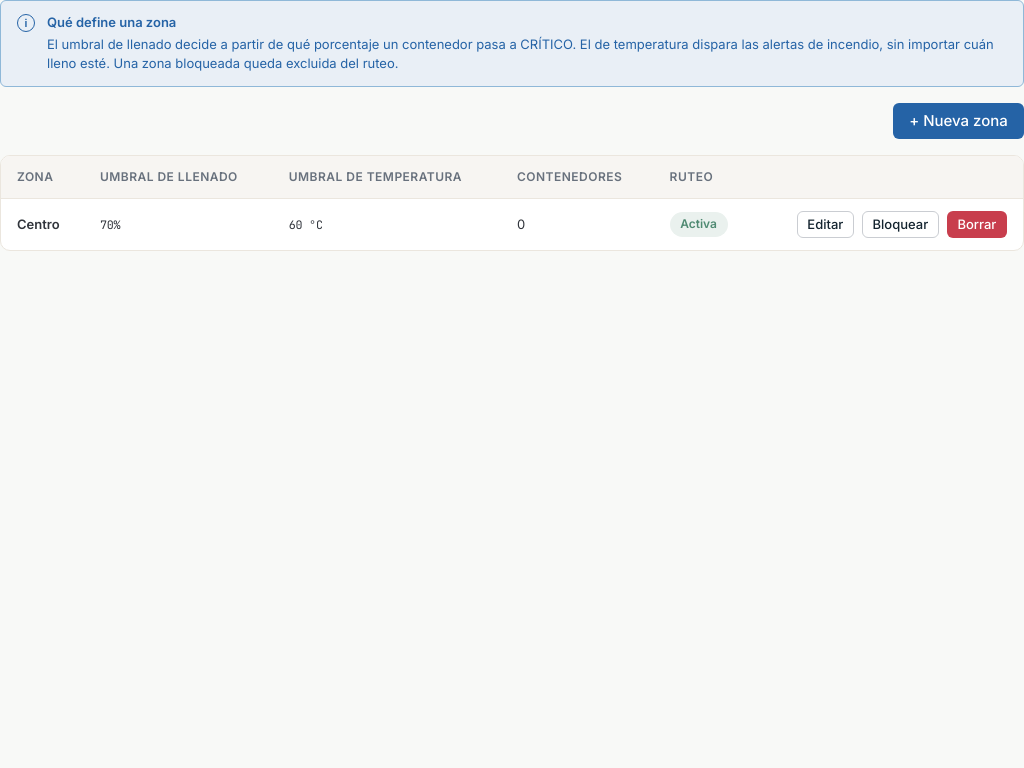
Test: CU-02 zonas y umbrales › no avisa nada si el umbral sube
Expected: the text "Centro" is shown, [17,216,60,232]
Click the button "Editar" at [825, 224], box [797,211,854,238]
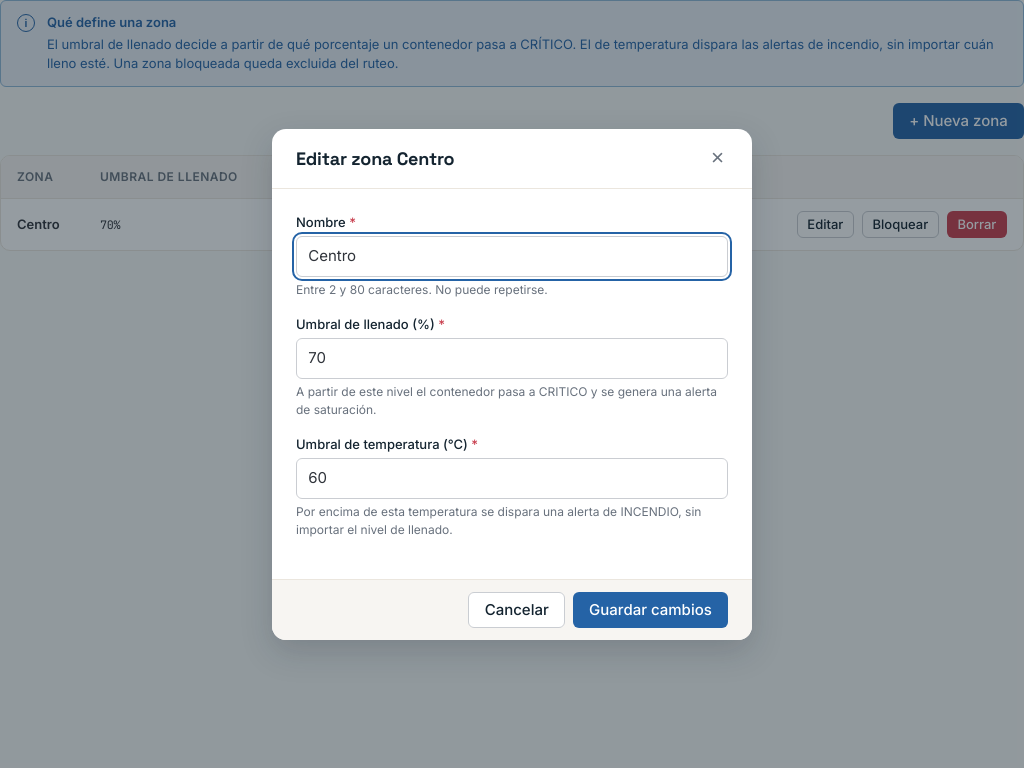
Clear the number field labelled "Umbral de llenado (%) *" at [512, 358], box [296,338,728,378]
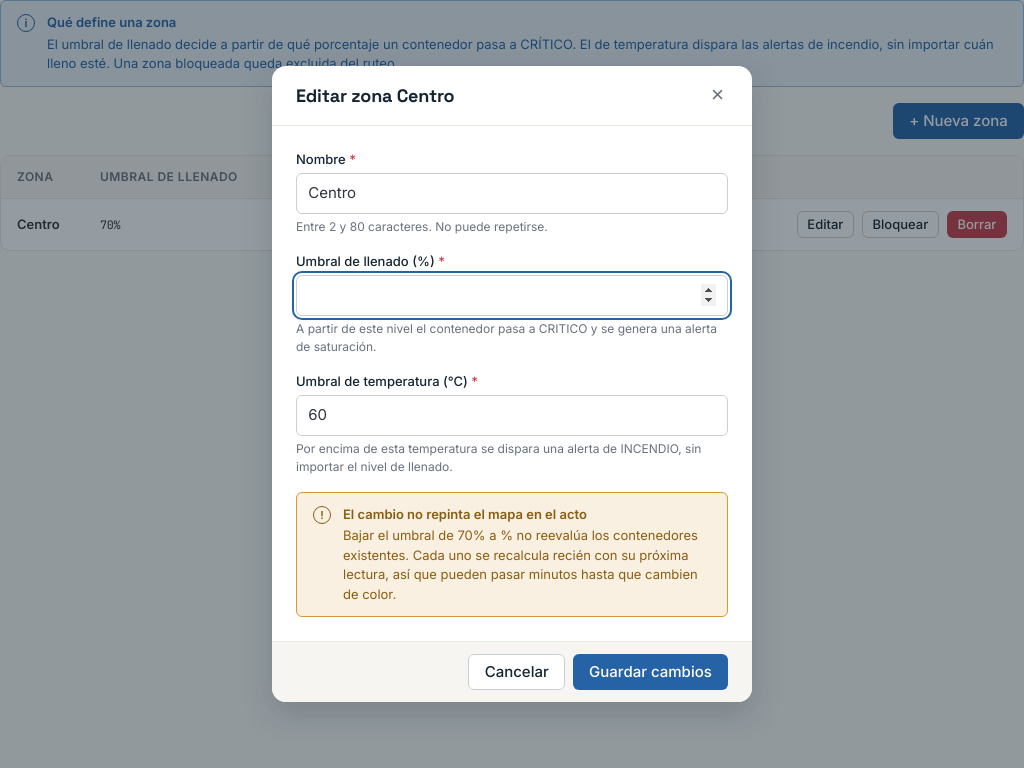
Type "90" into the number field labelled "Umbral de llenado (%) *" at [512, 295], box [296,275,728,316]
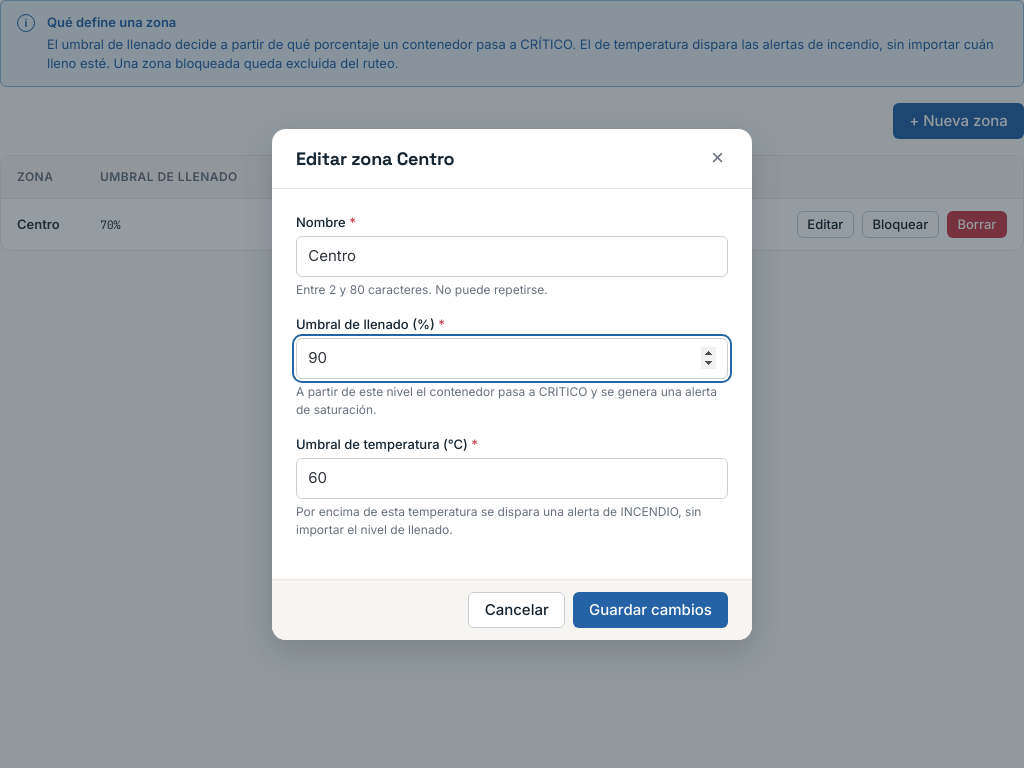
Now the text "no repinta el mapa" is gone
